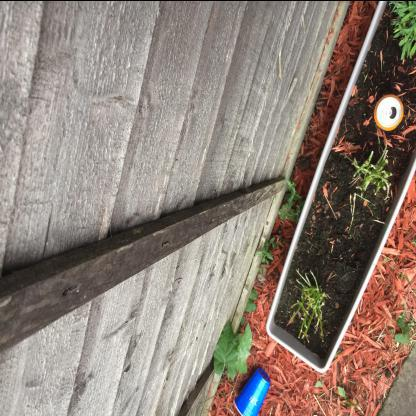metal: (375, 95, 405, 131)
plastik: (235, 367, 273, 416)
